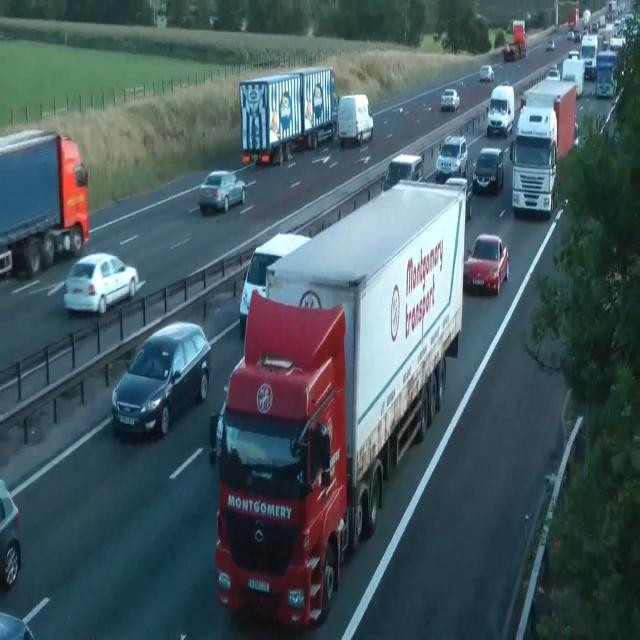bus: (110, 320, 212, 437), (63, 252, 139, 316), (463, 233, 509, 296), (0, 478, 21, 590), (198, 170, 245, 214), (381, 153, 424, 192), (472, 146, 504, 194), (444, 177, 472, 219), (0, 611, 34, 639), (440, 88, 460, 112), (594, 80, 612, 98), (479, 64, 494, 83), (546, 65, 560, 81), (568, 50, 579, 59), (546, 39, 554, 51), (573, 32, 581, 42), (567, 30, 574, 40)
jeep: (239, 231, 311, 338), (336, 92, 374, 146), (435, 134, 468, 182), (486, 83, 514, 137)
minibus: (210, 177, 468, 629), (0, 127, 90, 278), (238, 66, 338, 166), (509, 105, 559, 218), (520, 77, 578, 159), (545, 56, 585, 98), (595, 50, 617, 98), (502, 19, 526, 61)
